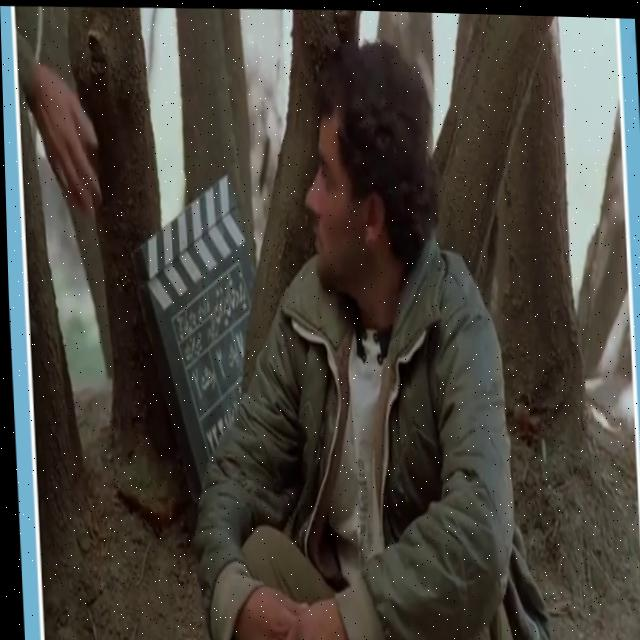Clapperboard: (137, 168, 256, 502)
